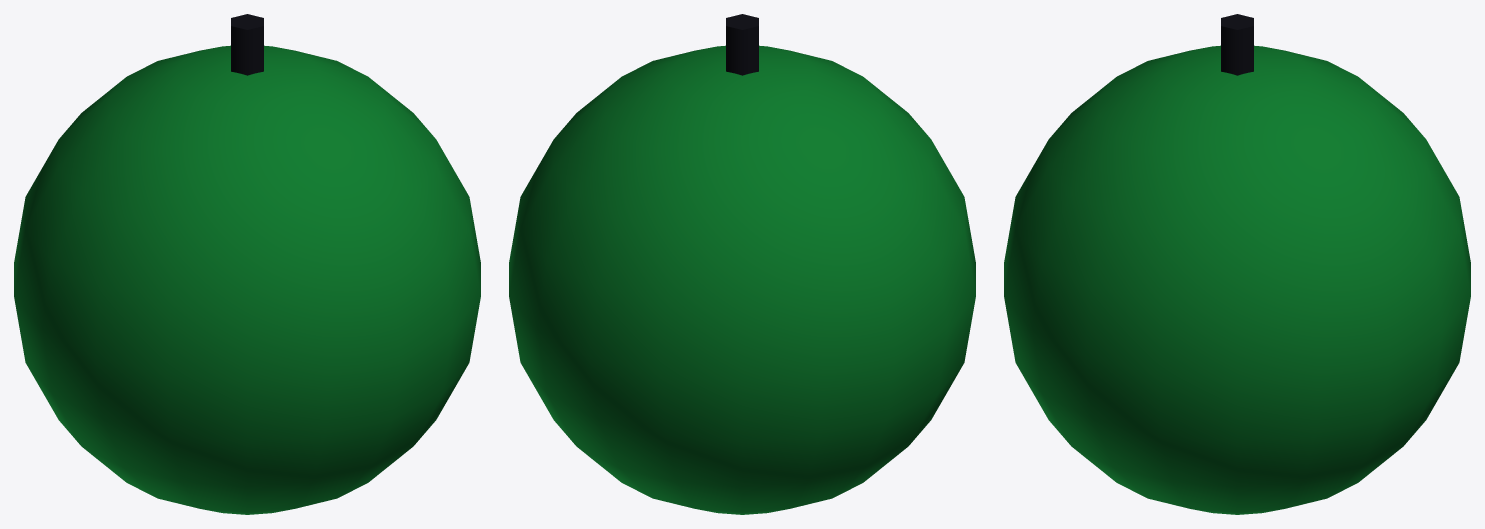
The model's file is spherical_green.glb.
3 renders of one model, left to right at view 1: azimuth 30°, elevation 25°; view 2: azimuth 150°, elevation 25°; view 3: azimuth 270°, elevation 25°, orthographic.
Visible parts, largest first — view 1: spherical_green; view 2: spherical_green; view 3: spherical_green.
Part boxes in pixels (left/top/right/bottom): spherical_green: left=14, top=14, right=480, bottom=514; spherical_green: left=509, top=14, right=975, bottom=514; spherical_green: left=1004, top=14, right=1470, bottom=514.
Size of the model in its own units: 1.5 by 1.65 by 1.48.
